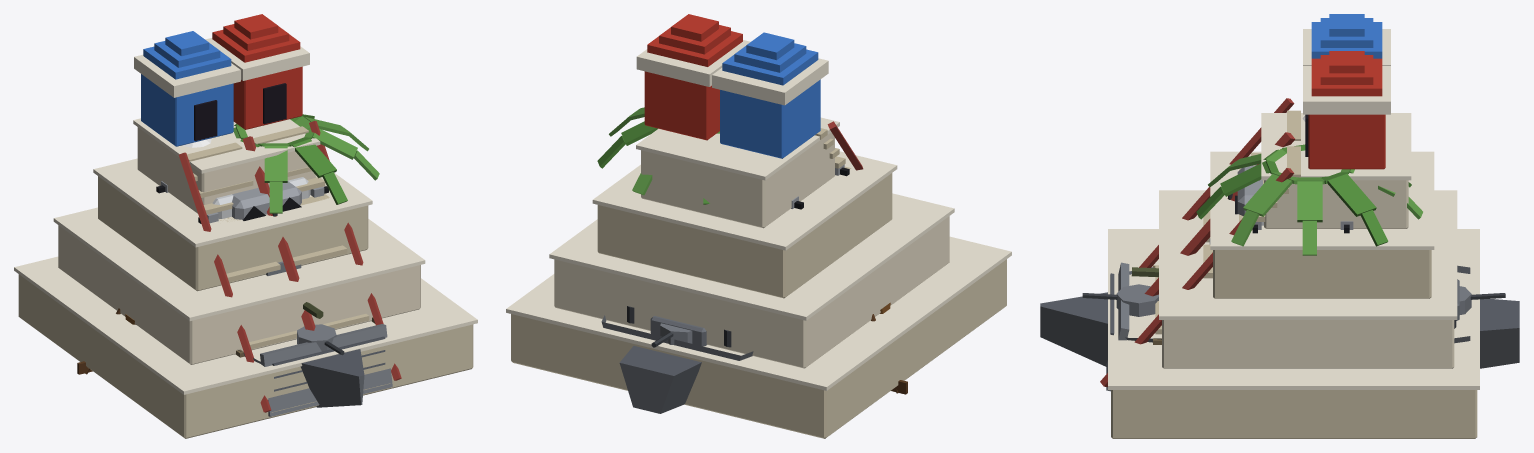
File: props.glb
3 renders of one model, left to right at view 1: azimuth 30°, elevation 25°; view 2: azimuth 150°, elevation 25°; view 3: azimuth 270°, elevation 25°, orthographic. The views are drawn at different scales.
Parts seen in each view (by area): view 1: templo_mayor, palm, destroyer, lcvp, lunar_module; view 2: templo_mayor, destroyer, lcvp, palm; view 3: templo_mayor, destroyer, palm, lcvp, lunar_module.
Part boxes in pixels (left/top/right/bottom): templo_mayor: left=14, top=14, right=477, bottom=438; palm: left=233, top=114, right=379, bottom=213; destroyer: left=266, top=213, right=364, bottom=407; lcvp: left=235, top=317, right=392, bottom=416; lunar_module: left=156, top=138, right=328, bottom=223; templo_mayor: left=506, top=14, right=1011, bottom=438; destroyer: left=619, top=323, right=701, bottom=413; lcvp: left=601, top=306, right=753, bottom=360; palm: left=597, top=107, right=719, bottom=204; templo_mayor: left=1100, top=14, right=1479, bottom=438; destroyer: left=1040, top=193, right=1519, bottom=368; palm: left=1196, top=144, right=1422, bottom=255; lcvp: left=1106, top=262, right=1470, bottom=391; lunar_module: left=1235, top=115, right=1353, bottom=233.
Bounding box in the file's own units: 5.37 × 5.23 × 6.8.
